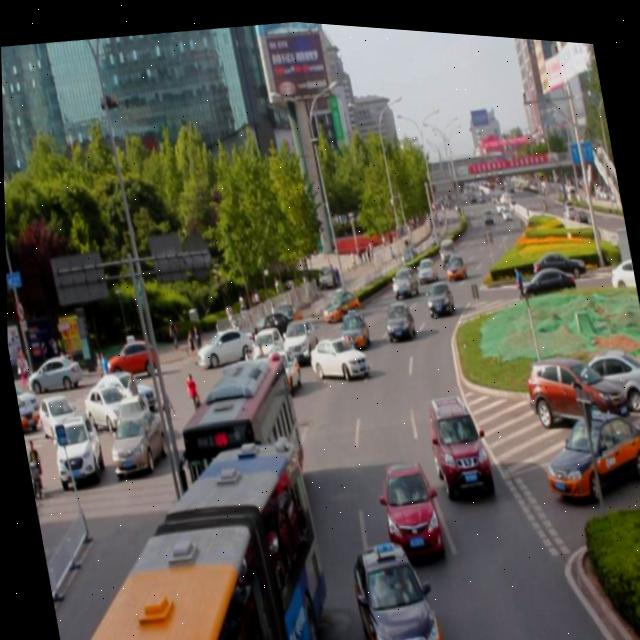car: (343, 524, 442, 640), (422, 382, 492, 494), (374, 448, 442, 558), (305, 325, 369, 383), (190, 319, 258, 368), (215, 358, 259, 418), (258, 343, 306, 394), (277, 309, 320, 364), (246, 321, 287, 371), (249, 303, 297, 342), (378, 292, 415, 338), (335, 301, 371, 346), (319, 282, 360, 318), (423, 272, 455, 315), (388, 258, 419, 294)
van: (24, 416, 334, 640), (169, 347, 309, 514)
